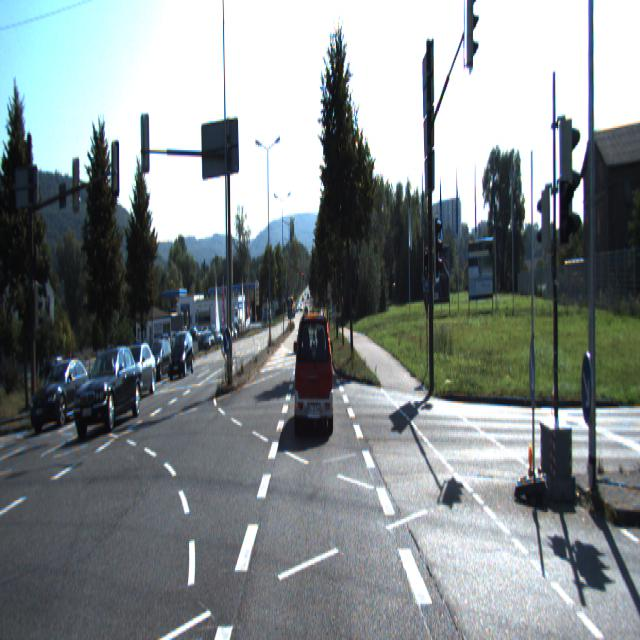Car: (72, 346, 143, 441), (294, 312, 334, 437), (33, 352, 94, 430), (168, 331, 194, 382)
